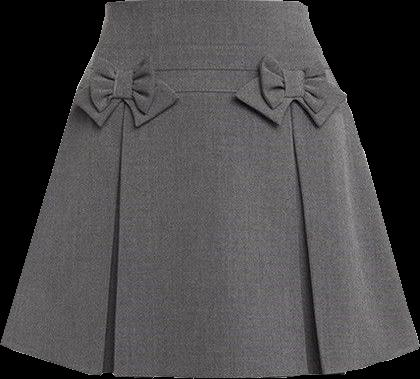Hemline: (0, 341, 419, 378)
Waistline: (84, 65, 331, 73), (104, 0, 306, 8)
